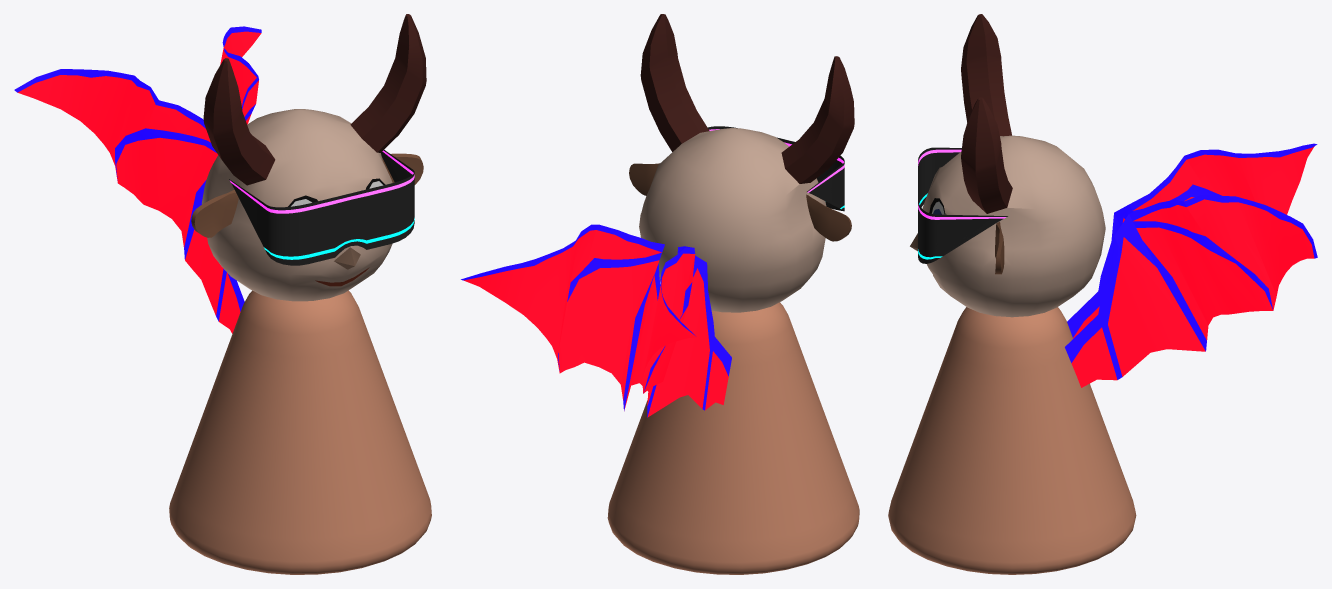
Rendered from player.glb.
3 renders of one model, left to right at view 1: azimuth 30°, elevation 25°; view 2: azimuth 150°, elevation 25°; view 3: azimuth 270°, elevation 25°, orthographic. The views are drawn at different scales.
Parts seen in each view (by area): view 1: sarir; view 2: sarir; view 3: sarir.
Boxes of the visible parts, x1,y1,x2,y2 form: sarir: [14, 14, 431, 574]; sarir: [461, 14, 859, 574]; sarir: [888, 14, 1317, 574].
Size of the model in its own units: 0.9791 by 1.89 by 1.56.
